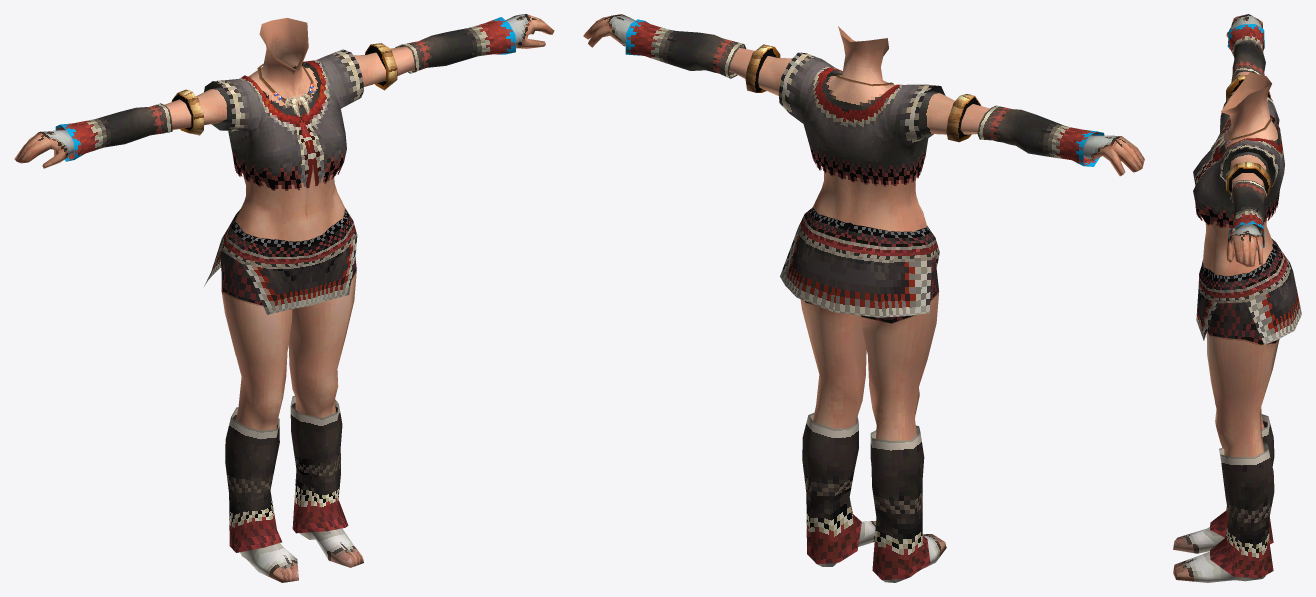
The model's file is f_body027.obj.
3 views of the same model, side by side, from view 1: azimuth 30°, elevation 25°; view 2: azimuth 150°, elevation 25°; view 3: azimuth 270°, elevation 25° (orthographic). The views are drawn at different scales.
Parts seen in each view (by area): view 1: editpl_f-0000-5, editpl_f-0000-4, editpl_f-0000-3; view 2: editpl_f-0000-5, editpl_f-0000-4, editpl_f-0000-3; view 3: editpl_f-0000-5, editpl_f-0000-4, editpl_f-0000-3.
Boxes of the visible parts, x1=… form: editpl_f-0000-5: x1=204, y1=208, x2=363, y2=582; editpl_f-0000-4: x1=196, y1=18, x2=385, y2=241; editpl_f-0000-3: x1=14, y1=14, x2=554, y2=168; editpl_f-0000-5: x1=780, y1=207, x2=946, y2=582; editpl_f-0000-4: x1=758, y1=26, x2=954, y2=231; editpl_f-0000-3: x1=583, y1=14, x2=1144, y2=176; editpl_f-0000-5: x1=1173, y1=238, x2=1301, y2=582; editpl_f-0000-4: x1=1193, y1=72, x2=1284, y2=276; editpl_f-0000-3: x1=1226, y1=14, x2=1271, y2=266.
Bounding box in the file's own units: 173 × 160 × 38.92.
